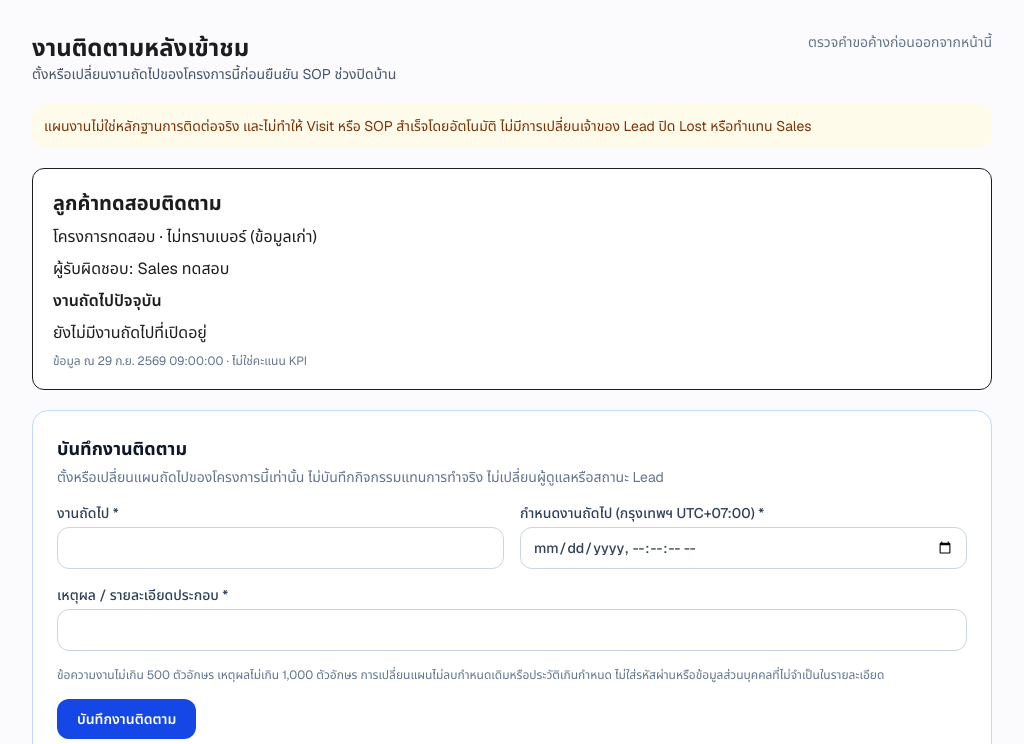
Test: interest-only visit follow-up › blocks retries after successful save with failed receipt cleanup
Type "โทรนัดรอบถัดไป" into the field labelled "งานถัดไป *" at (280, 548), box [57,527,504,569]
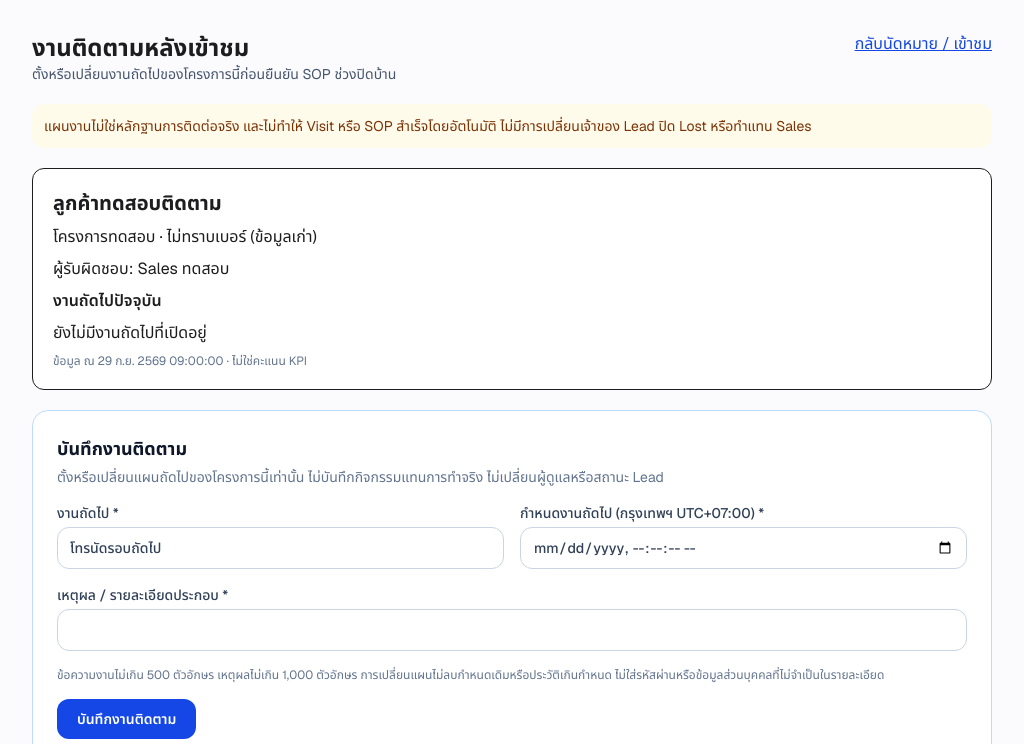
Type "2026-09-30T10:30:00" into the field labelled "กำหนดงานถัดไป (กรุงเทพฯ UTC+07:00) *" at (744, 548), box [520,527,967,569]
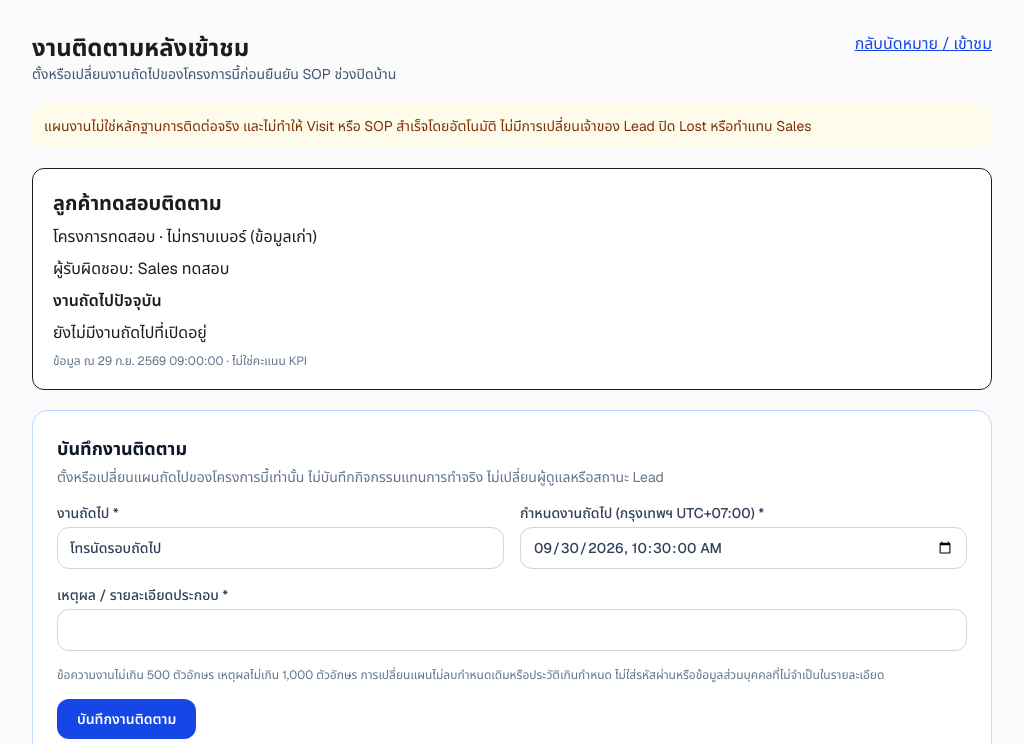
Type "ลูกค้าขอพิจารณา" into the field labelled "เหตุผล / รายละเอียดประกอบ *" at (512, 630), box [57,609,967,651]
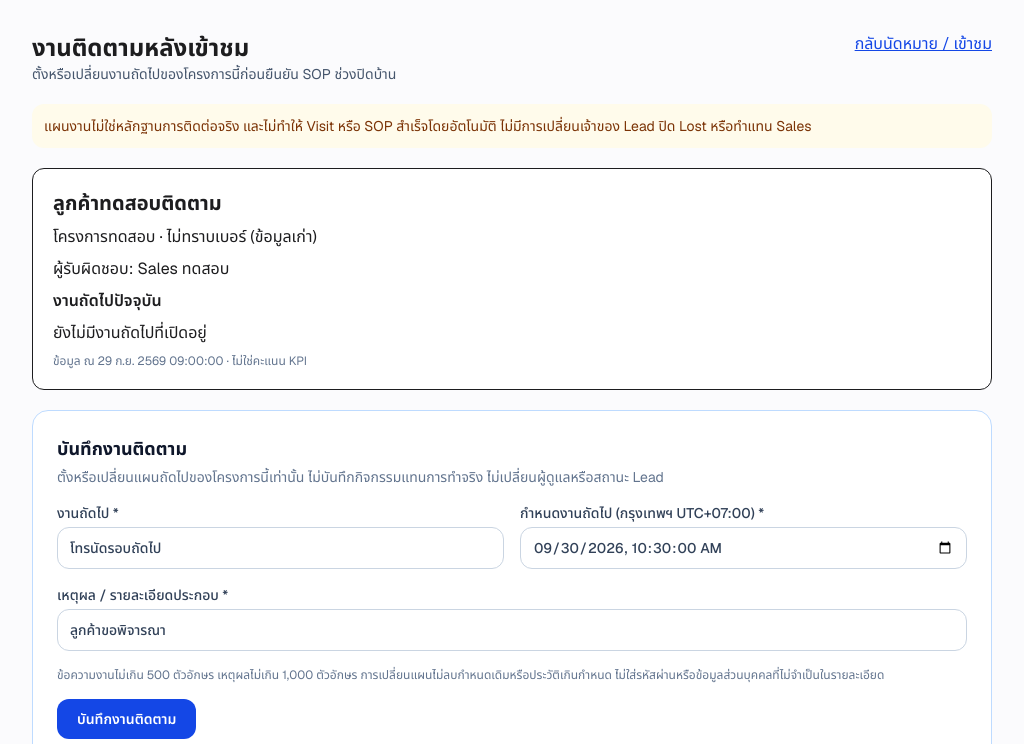
Submit the form, box [57,503,967,739]
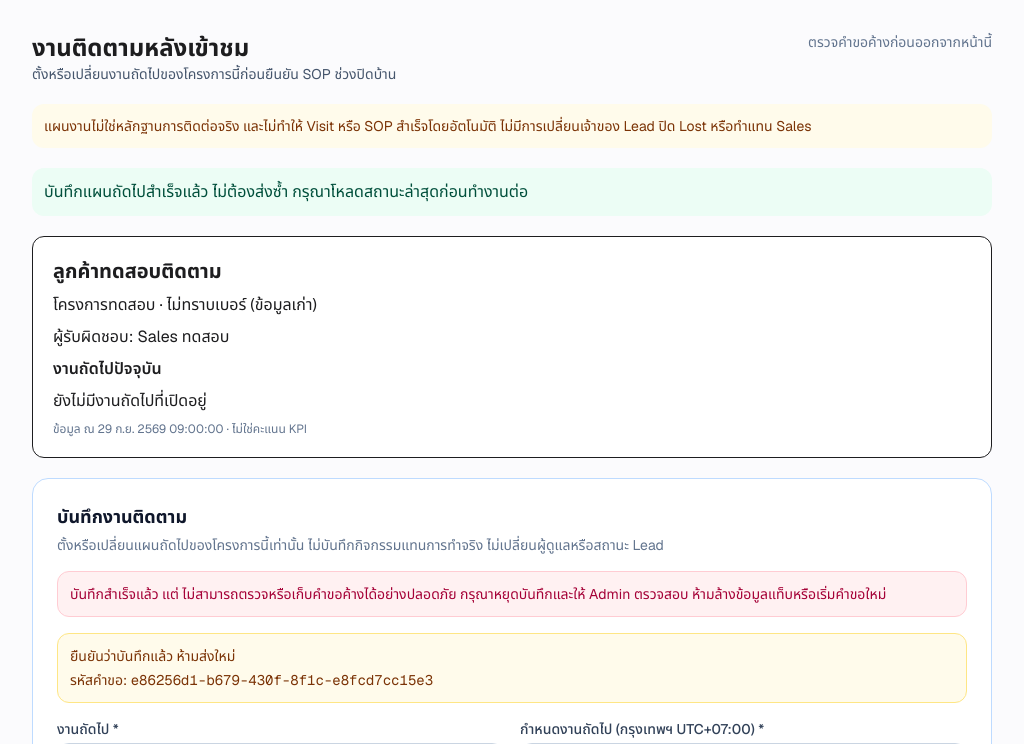
Now the 2nd message shows "บันทึกสำเร็จแล้ว", box [70,585,886,603]
